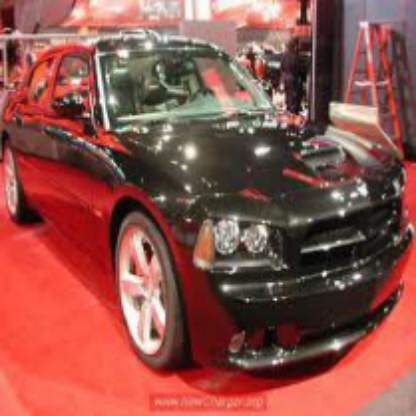Vehicle: (3, 34, 414, 392)
